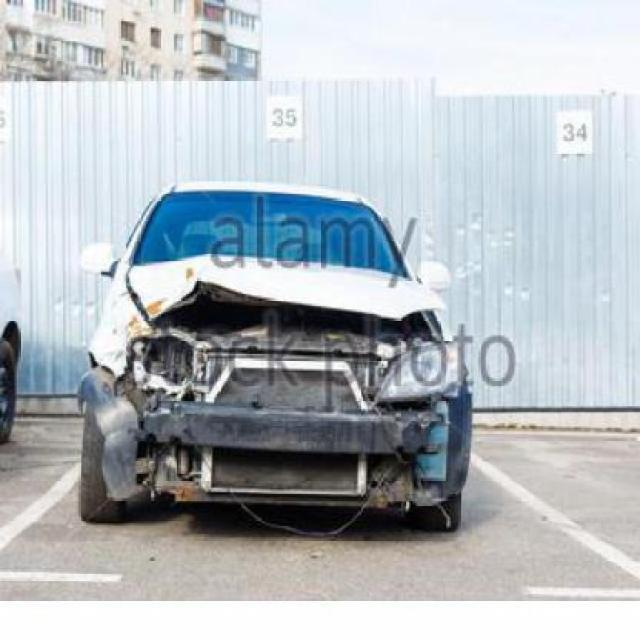bonnet-dent: (111, 259, 435, 335)
